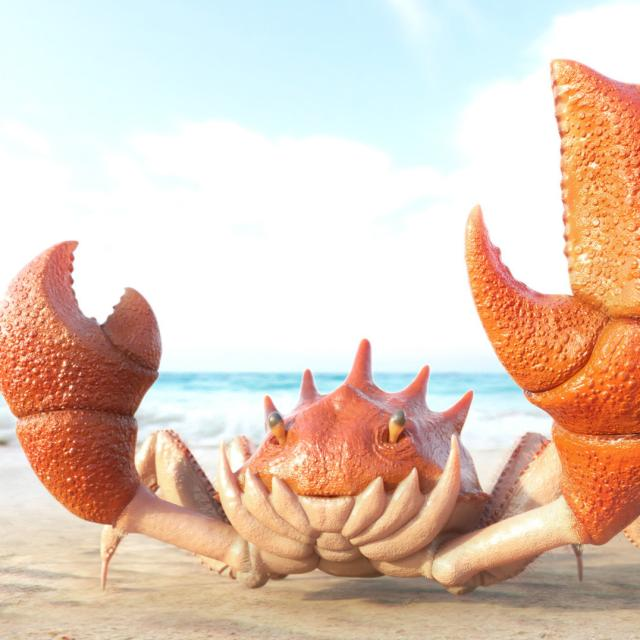Kingler: (0, 320, 640, 593)
